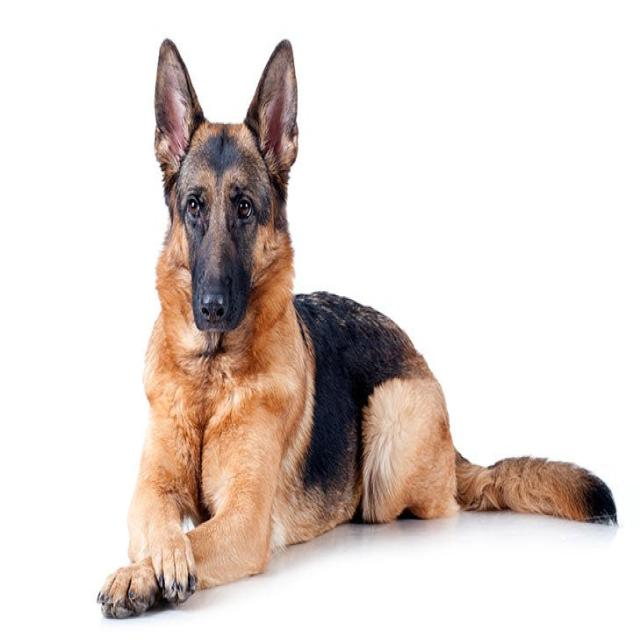GERMAN_SHEPHERD: (89, 19, 611, 639)
